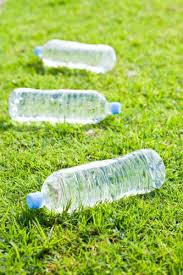plastic_bottle: (26, 147, 165, 214), (10, 87, 123, 127)
